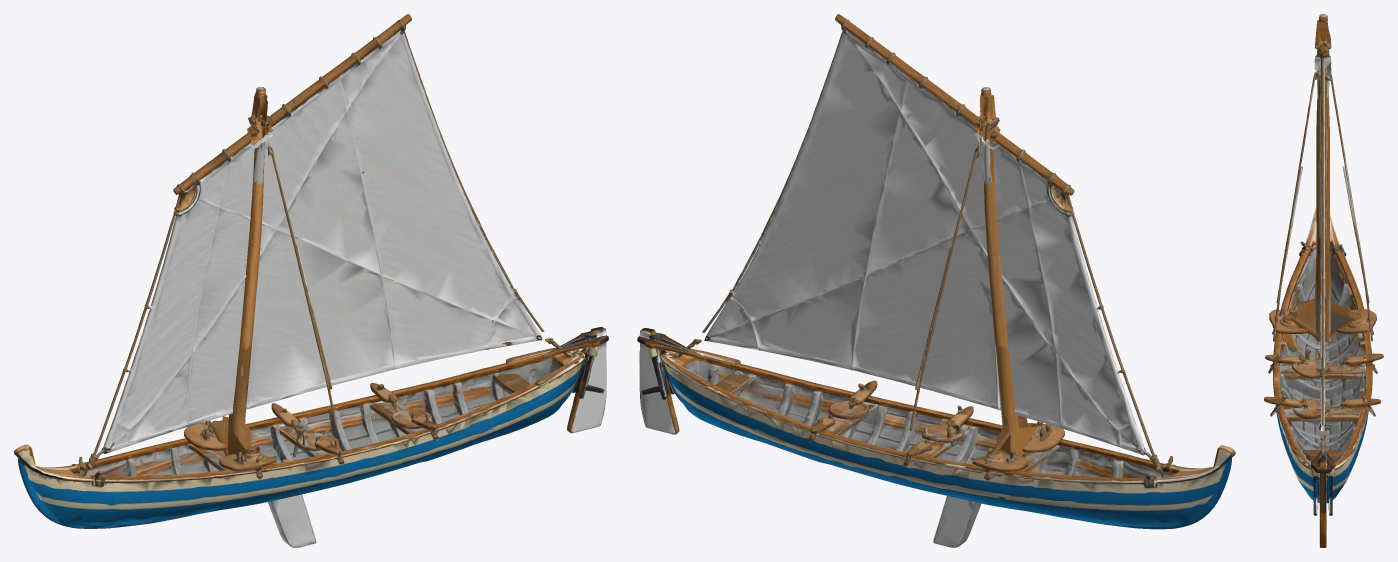
File: pinasse.glb
3 views of the same model, side by side, from view 1: azimuth 30°, elevation 25°; view 2: azimuth 150°, elevation 25°; view 3: azimuth 270°, elevation 25° (orthographic). The views are drawn at different scales.
Visible parts, largest first — view 1: Vela, Casco, Leme; view 2: Vela, Casco, Leme; view 3: Casco, Vela, Leme.
Boxes of the visible parts, <box> form: Vela: <box>94,14,544,452</box>; Casco: <box>14,86,605,547</box>; Leme: <box>542,327,608,433</box>; Vela: <box>702,14,1153,453</box>; Casco: <box>639,87,1235,547</box>; Leme: <box>637,328,703,434</box>; Casco: <box>1264,14,1383,515</box>; Vela: <box>1308,23,1337,431</box>; Leme: <box>1314,435,1331,547</box>.
Size of the model in its own units: 9.02 by 7.33 by 1.74.
1 material, 1 textured.
